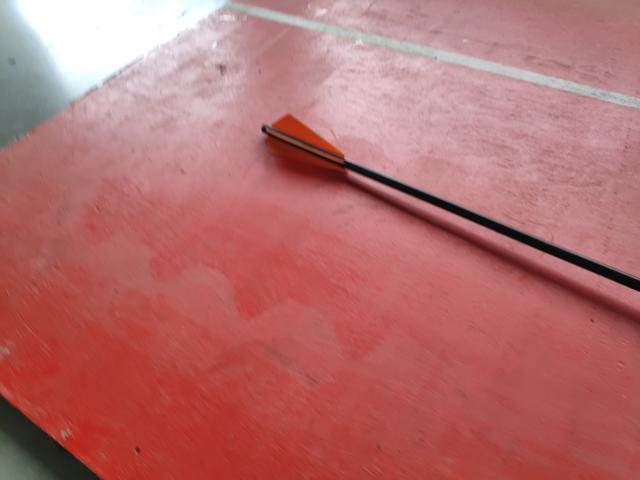Tail: (259, 110, 347, 171)
